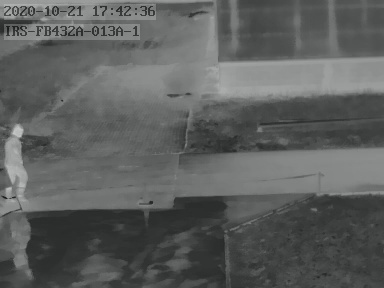person: (1, 121, 30, 198)
